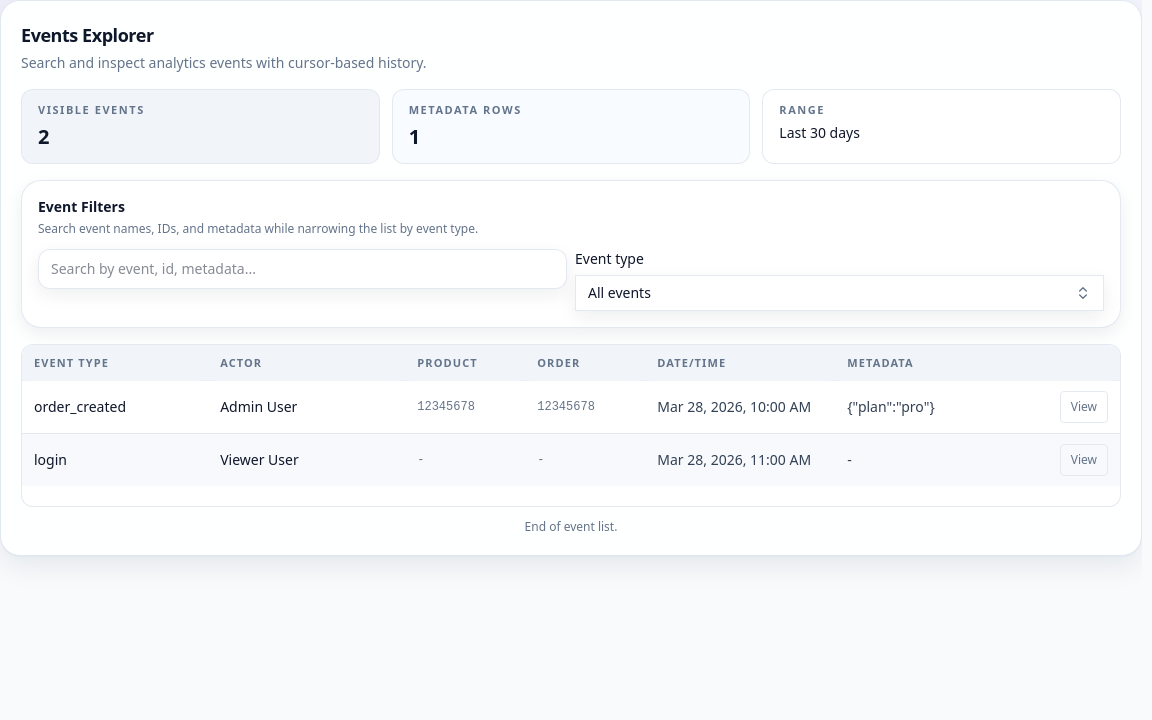
Test: AdminEventsPage › filters rendered events by event type and applies search after debounce
Step 1. Click the button with aria-label "Filter by event type" → (619, 292), box [575,274,1104,310]
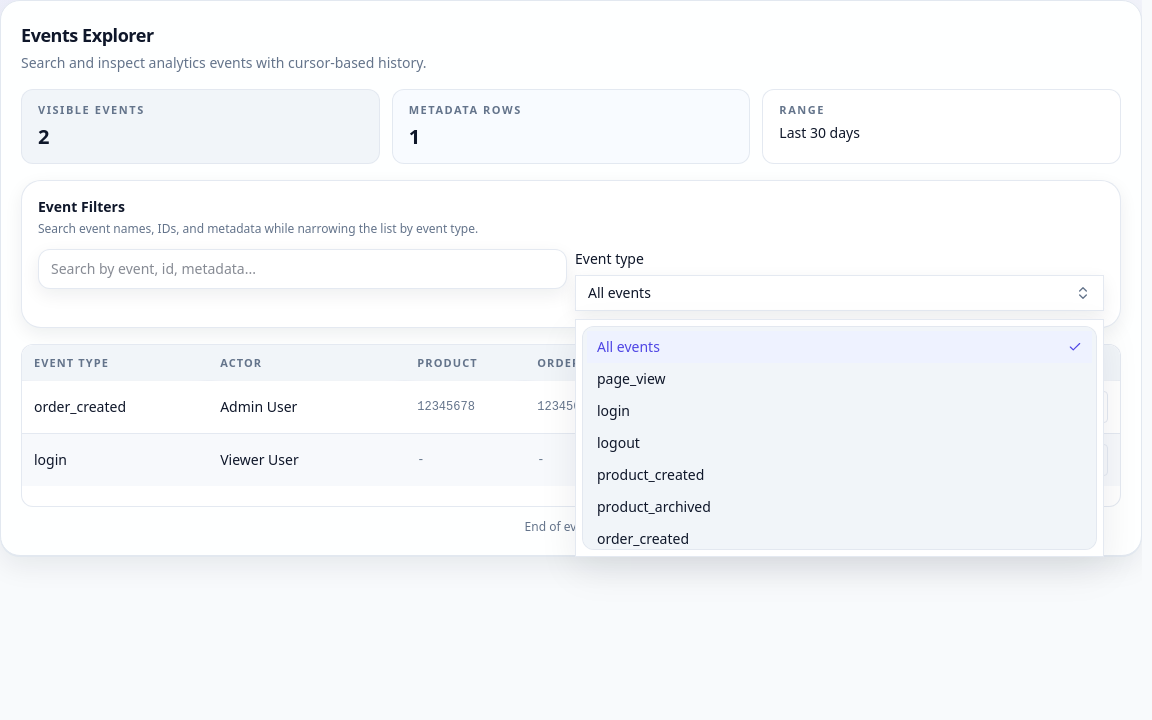
Step 2. Click the button "order_created" → (643, 538), box [587,522,1092,554]
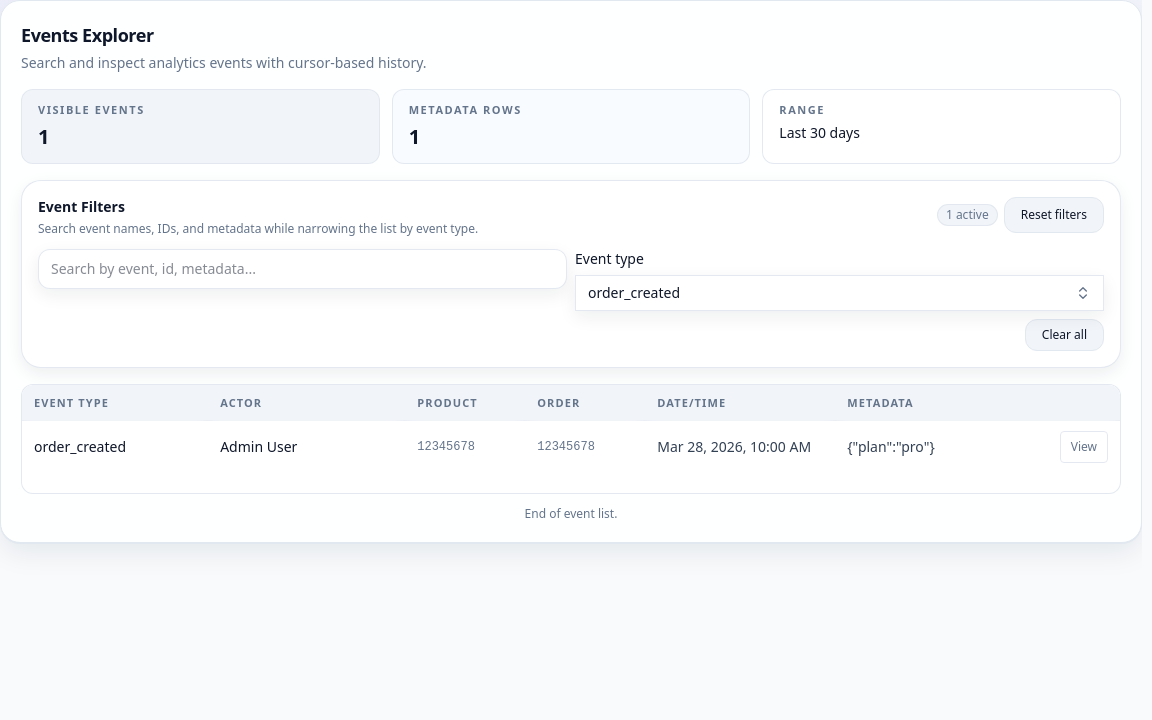
Check: the text "order_created" is shown, box [588,282,680,302]
Check: no buttons "login" are shown
Step 3. Type "missing" into the field with placeholder "Search by event, id, metadata..." → (302, 268), box [38,248,567,288]
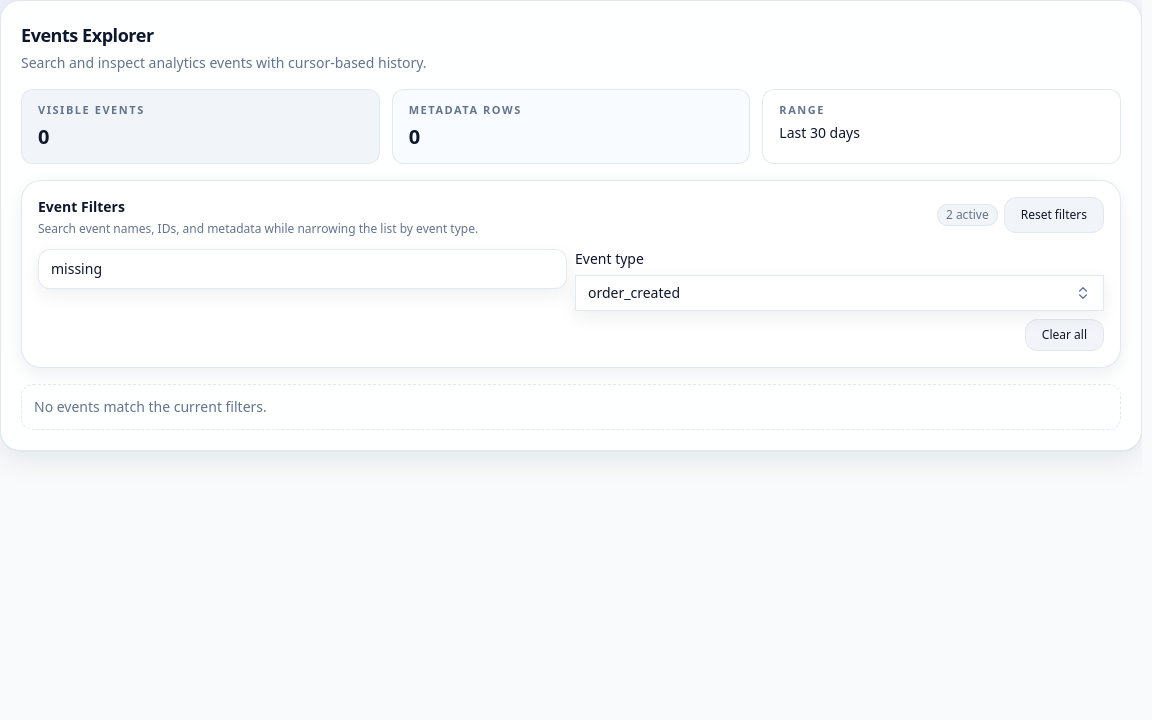
Check: the text "No events match the current filters." is shown, box [34,396,267,416]
